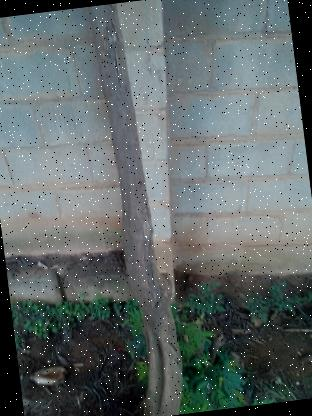tree: (79, 0, 195, 415)
